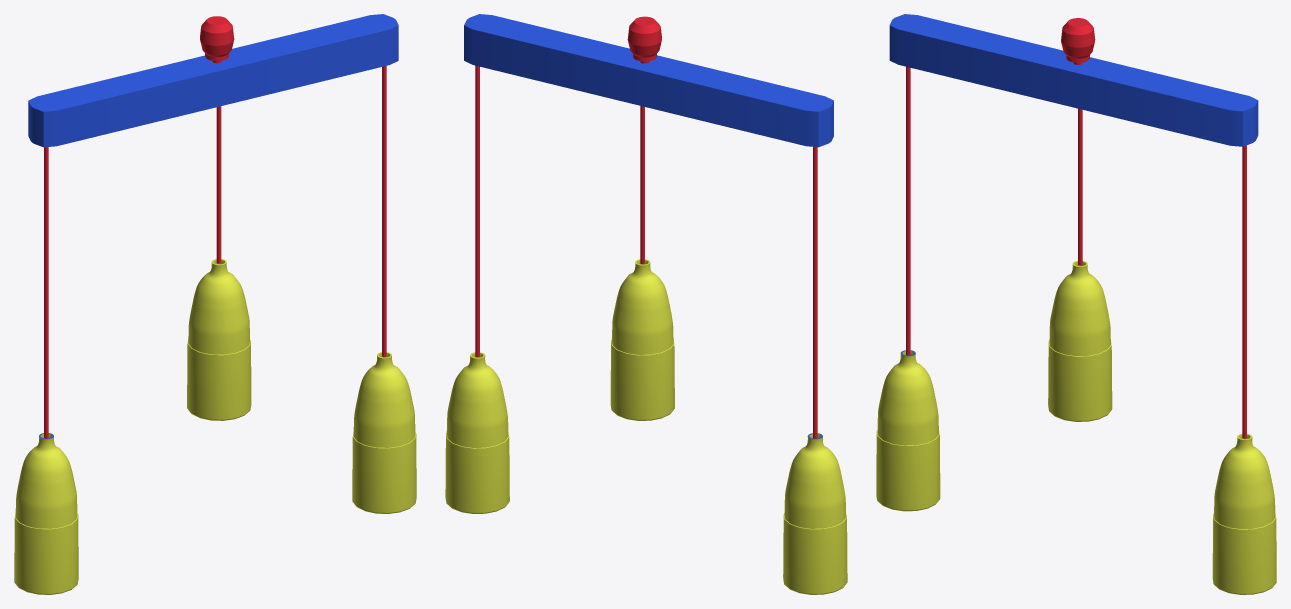
Rendered from lamba_.fbx.
3 views of the same model, side by side, from view 1: azimuth 30°, elevation 25°; view 2: azimuth 150°, elevation 25°; view 3: azimuth 330°, elevation 25° (orthographic).
Parts seen in each view (by area): view 1: Box003, yari, yari002, yari001, Tube002, Tube001, Line005, Tube003; view 2: Box003, yari002, yari, yari001, Tube002, Tube001, Line005, Tube003; view 3: Box003, yari002, yari, yari001, Tube001, Tube002, Line005, Tube003.
Boxes of the visible parts, x1,y1,x2,y2 form: Box003: (28, 14, 398, 147); yari: (352, 352, 416, 513); yari002: (14, 433, 78, 594); yari001: (187, 259, 251, 420); Tube002: (44, 147, 48, 438); Tube001: (382, 66, 386, 356); Line005: (200, 16, 234, 63); Tube003: (216, 106, 221, 263); Box003: (464, 14, 833, 147); yari002: (783, 433, 847, 594); yari: (445, 352, 509, 513); yari001: (610, 259, 674, 420); Tube002: (813, 147, 817, 438); Tube001: (475, 65, 479, 357); Line005: (627, 16, 661, 63); Tube003: (640, 106, 644, 264); Box003: (889, 14, 1258, 146); yari002: (876, 350, 940, 511); yari: (1212, 434, 1276, 594); yari001: (1048, 260, 1112, 421); Tube001: (1242, 145, 1246, 438); Tube002: (906, 66, 910, 355); Line005: (1061, 18, 1095, 64); Tube003: (1078, 108, 1082, 265).
Size of the model in its own units: 0.8847 by 1.12 by 0.1264.
